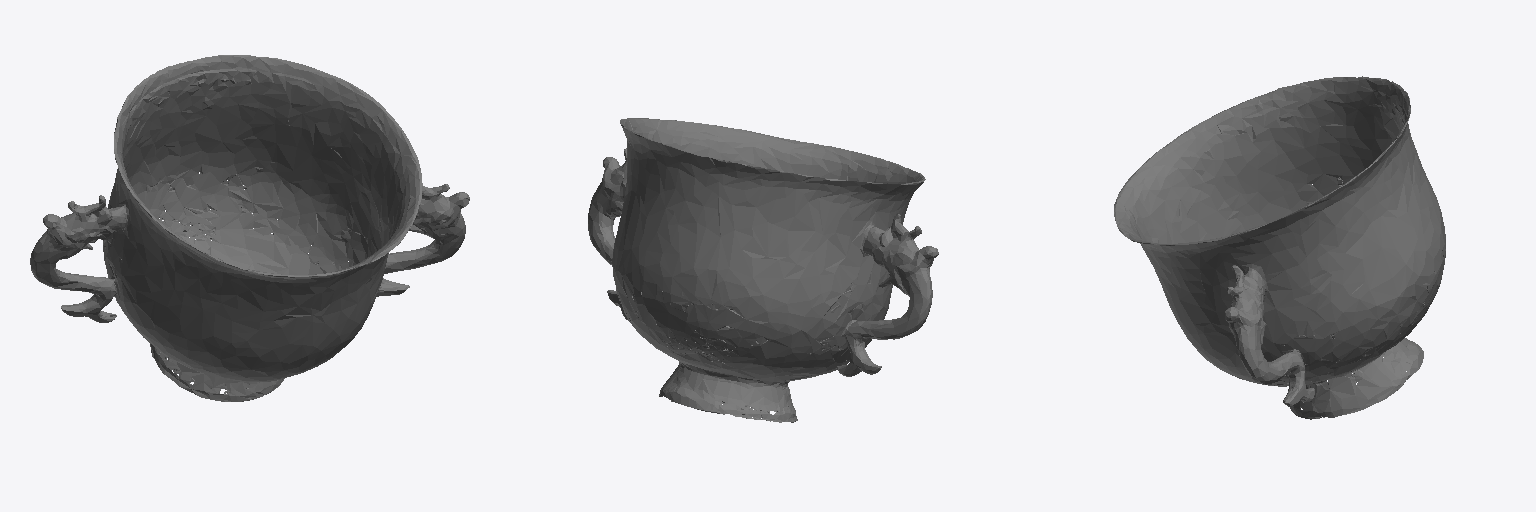
3 renders of one model, left to right at view 1: azimuth 30°, elevation 25°; view 2: azimuth 150°, elevation 25°; view 3: azimuth 270°, elevation 25°, orthographic.
Visible parts, largest first — view 1: Polygonal_Model_1 Triangles_1; view 2: Polygonal_Model_1 Triangles_1; view 3: Polygonal_Model_1 Triangles_1.
Part boxes in pixels (x1,y1,x2,y2): Polygonal_Model_1 Triangles_1: (30, 55, 469, 401); Polygonal_Model_1 Triangles_1: (588, 118, 938, 422); Polygonal_Model_1 Triangles_1: (1114, 76, 1445, 419).
Bounding box in the file's own units: 1.59 × 1.17 × 1.19.